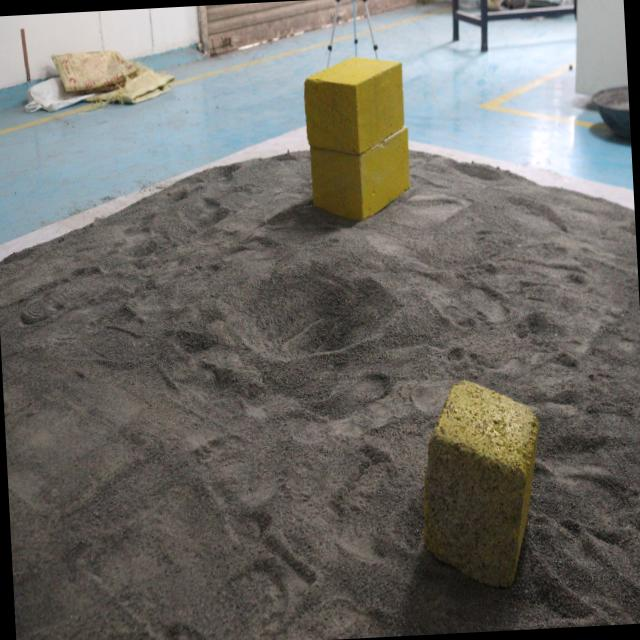box: (430, 372, 534, 591), (298, 58, 424, 230)
crater: (218, 248, 402, 378)
